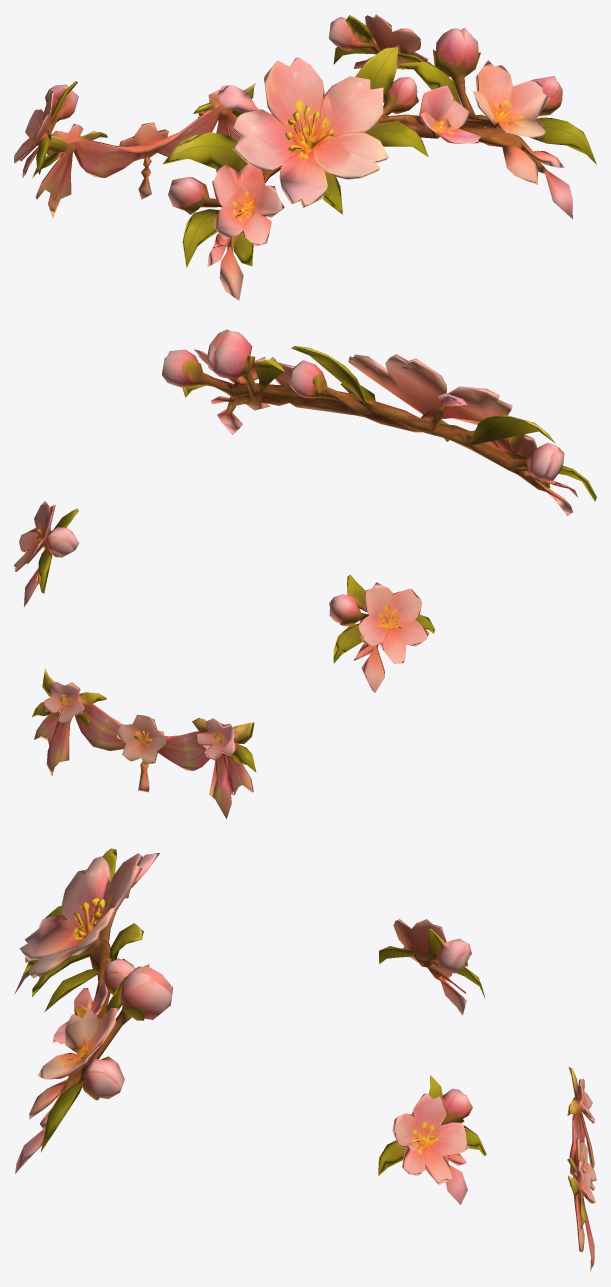
File: PeachBlossomWear.fbx
The picture shows the model from 3 angles, top to bottom: view 1: azimuth 30°, elevation 25°; view 2: azimuth 150°, elevation 25°; view 3: azimuth 270°, elevation 25°; orthographic projection. The views are drawn at different scales.
Visible parts, largest first — view 1: Crown, Festoon, ClusterL, ClusterR; view 2: Crown, Festoon, ClusterR, ClusterL; view 3: Crown, ClusterL, ClusterR, Festoon.
Part boxes in pixels (bbox=[...]): Crown: bbox=[162, 27, 596, 300]; Festoon: bbox=[32, 83, 255, 218]; ClusterL: bbox=[328, 14, 428, 69]; ClusterR: bbox=[14, 81, 78, 177]; Crown: bbox=[162, 329, 596, 515]; Festoon: bbox=[32, 668, 256, 818]; ClusterR: bbox=[329, 574, 434, 692]; ClusterL: bbox=[14, 501, 79, 607]; Crown: bbox=[14, 848, 173, 1173]; ClusterL: bbox=[378, 1075, 486, 1204]; ClusterR: bbox=[379, 919, 485, 1015]; Festoon: bbox=[567, 1067, 596, 1271].
Size of the model in its own units: 0.8964 by 0.6381 by 1.01.
1 material, 1 textured.
